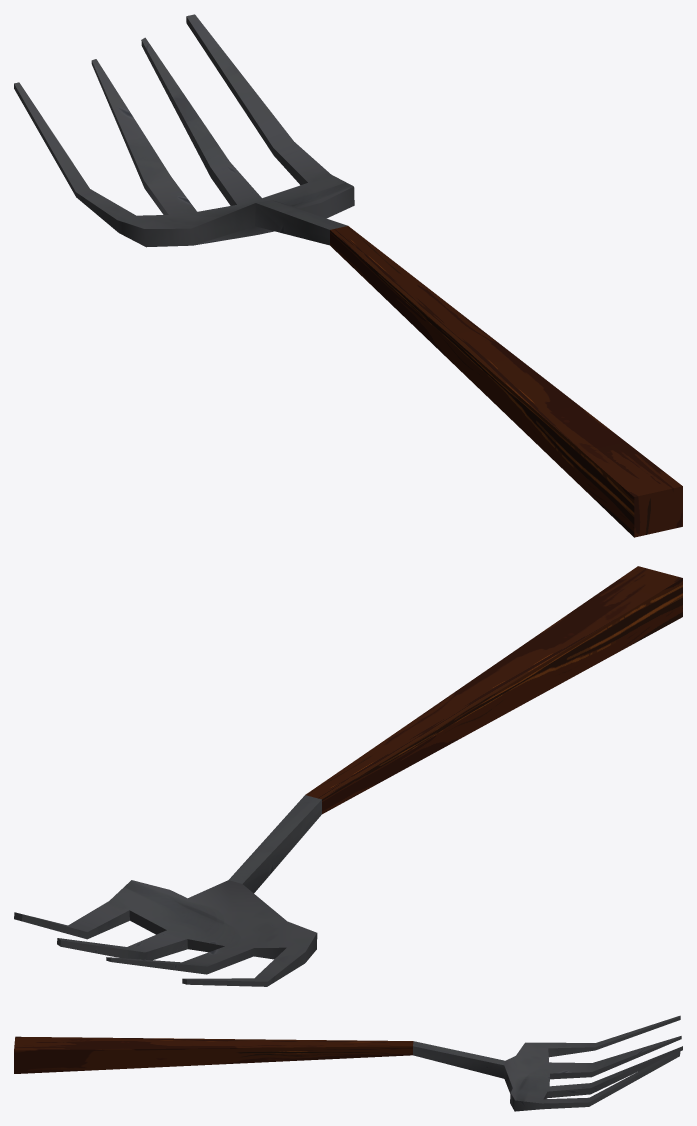
Rendered from rastrillo.glb.
3 views of the same model, one above another, from view 1: azimuth 30°, elevation 25°; view 2: azimuth 150°, elevation 25°; view 3: azimuth 270°, elevation 25° (orthographic). The views are drawn at different scales.
Visible parts, largest first — view 1: SM_PROP_pitchfork; view 2: SM_PROP_pitchfork; view 3: SM_PROP_pitchfork.
Part boxes in pixels (x1,y1,x2,y2): SM_PROP_pitchfork: (14,14,682,537); SM_PROP_pitchfork: (14,566,682,986); SM_PROP_pitchfork: (14,1015,682,1111).
Bounding box in the file's own units: 0.3742 × 0.1736 × 1.74.
Materials: 2 (2 with a texture image).
